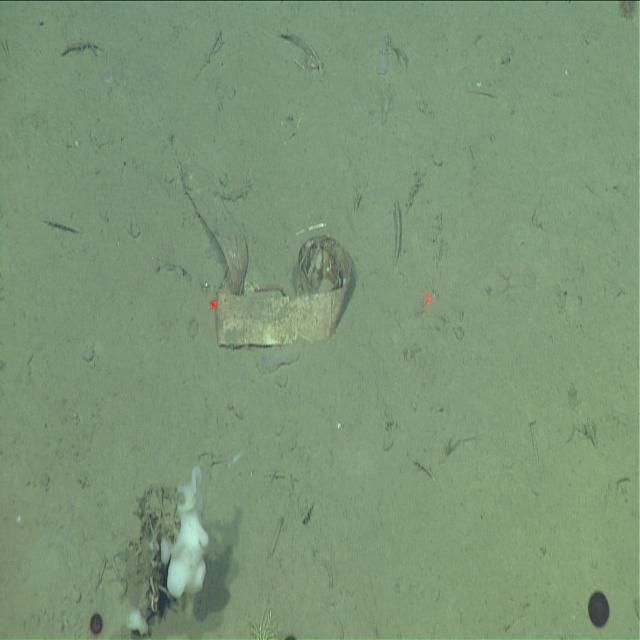Brittle Star: (1, 163, 28, 214)
Not Brittle Star: (0, 0, 179, 214)
